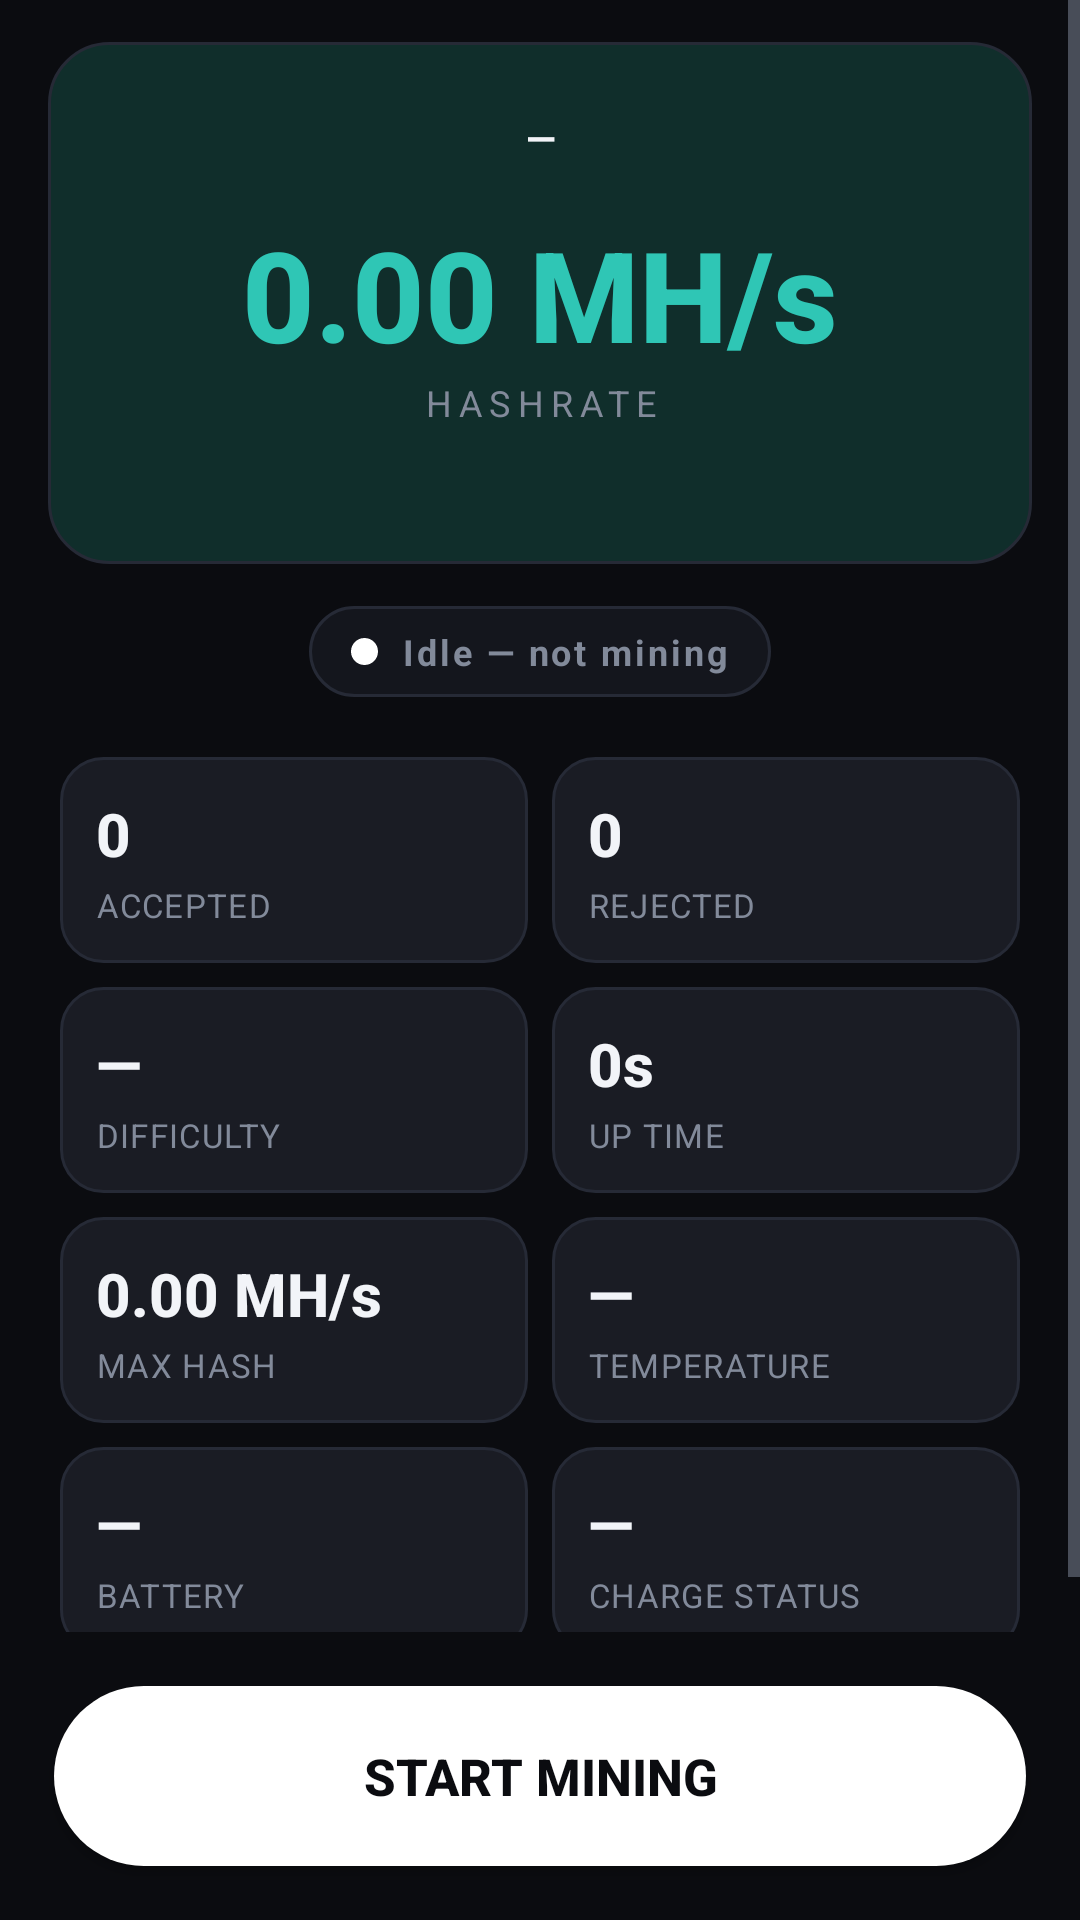

Icon click points for this 1080×1920 phone screenshot, format [x,y]:
status dot: [364,651]
